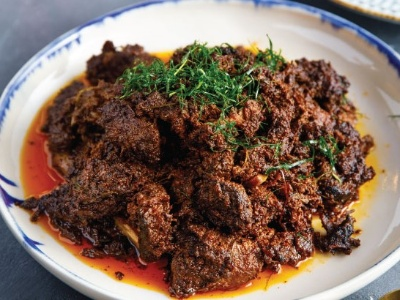rendang: (68, 48, 346, 260)
